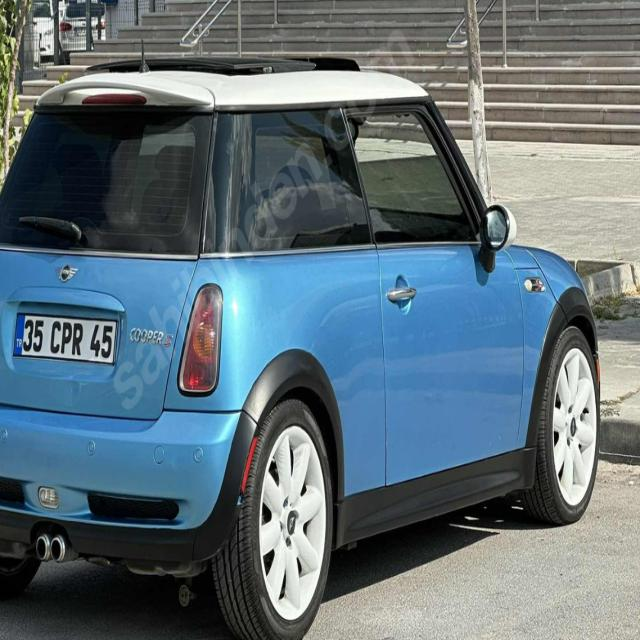mini: (50, 254, 80, 285)
